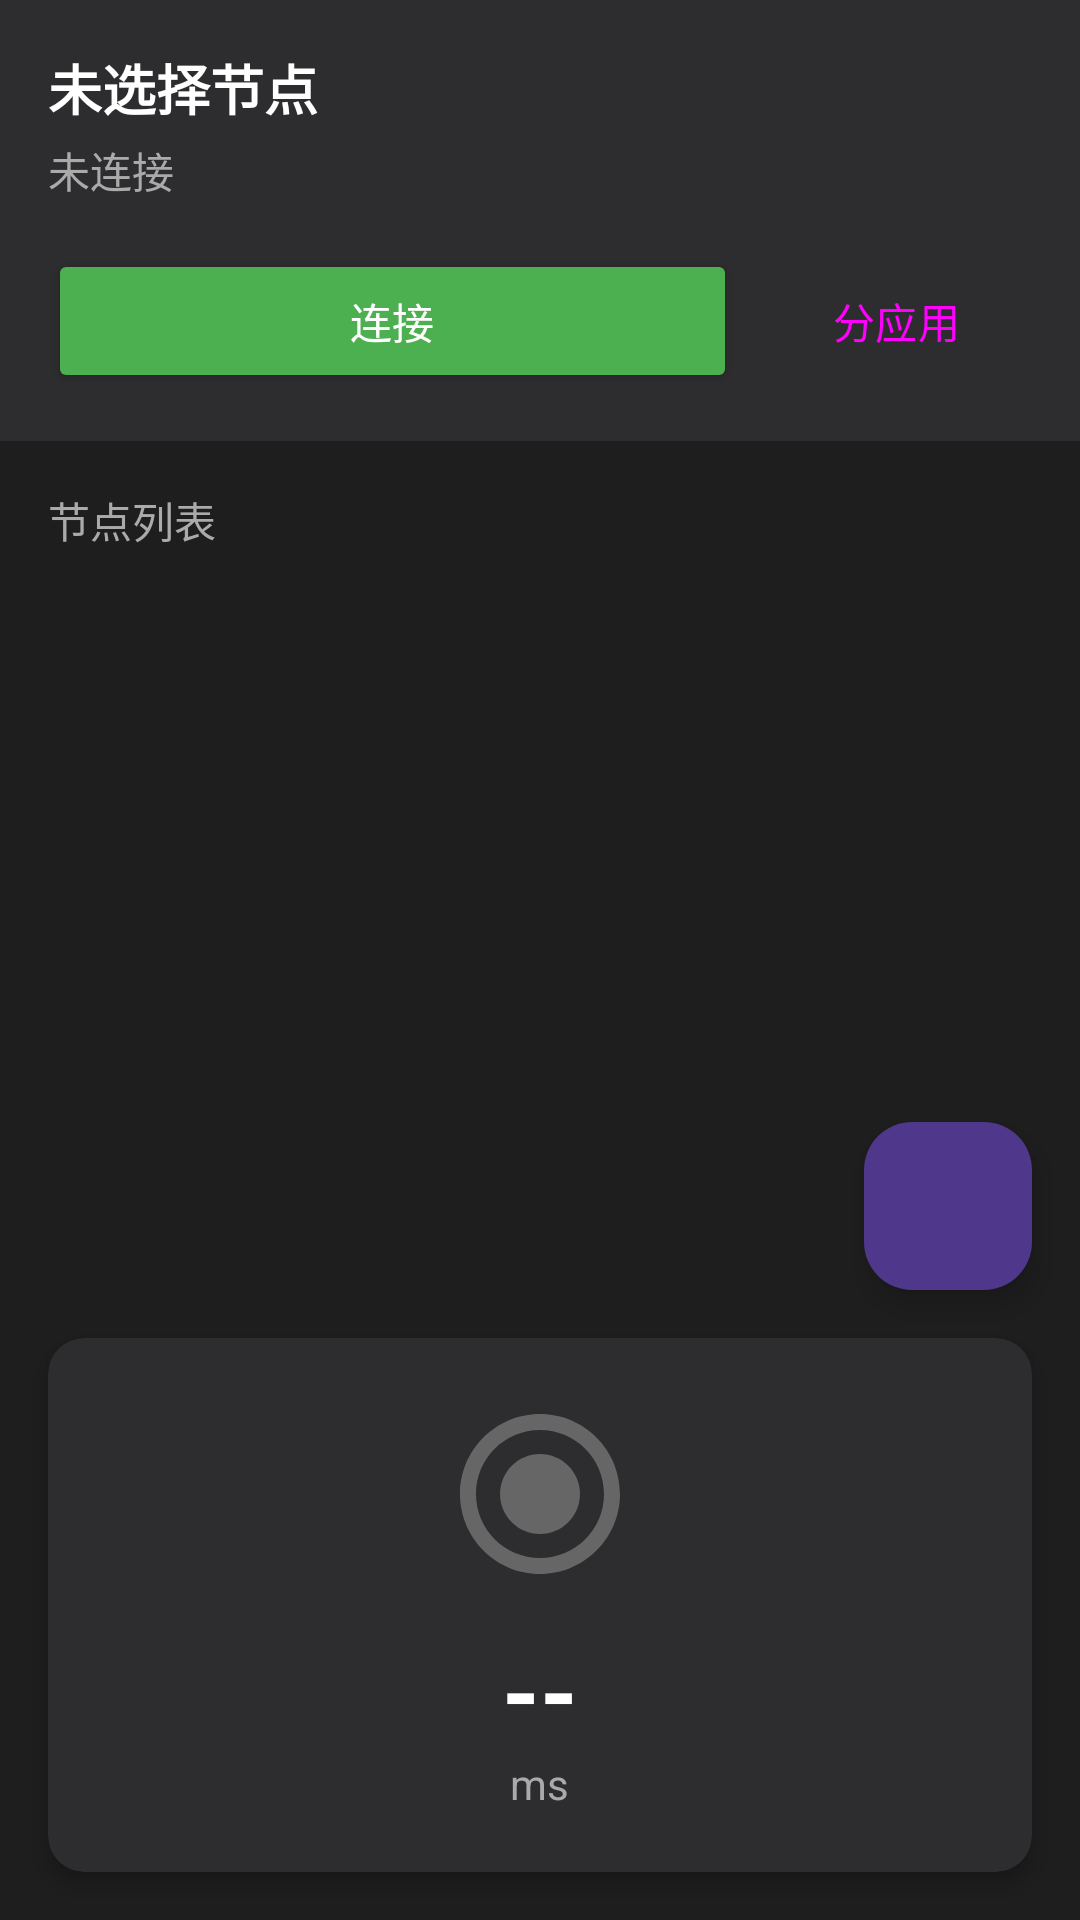

Point at icon controls on the screen. Image size 1080x1920, points as (x,y).
连接状态: (540,1494)
